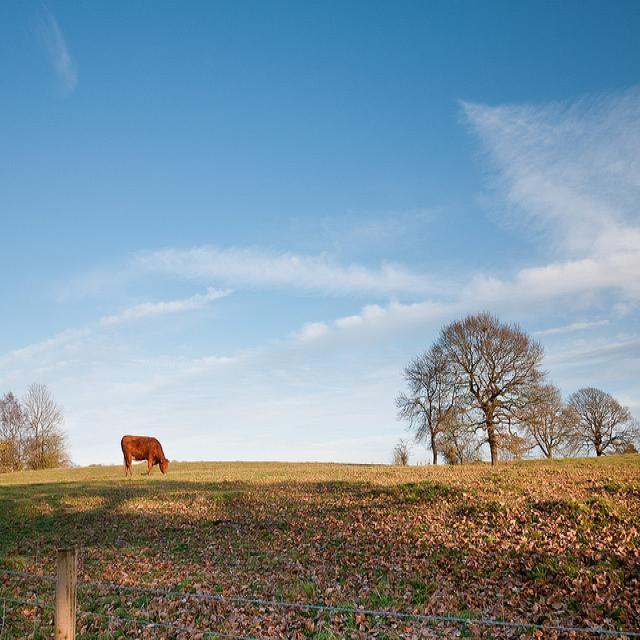cow: (119, 435, 169, 477)
